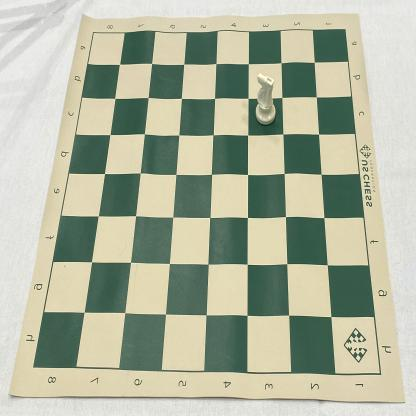white-knight: (254, 73, 276, 125)
